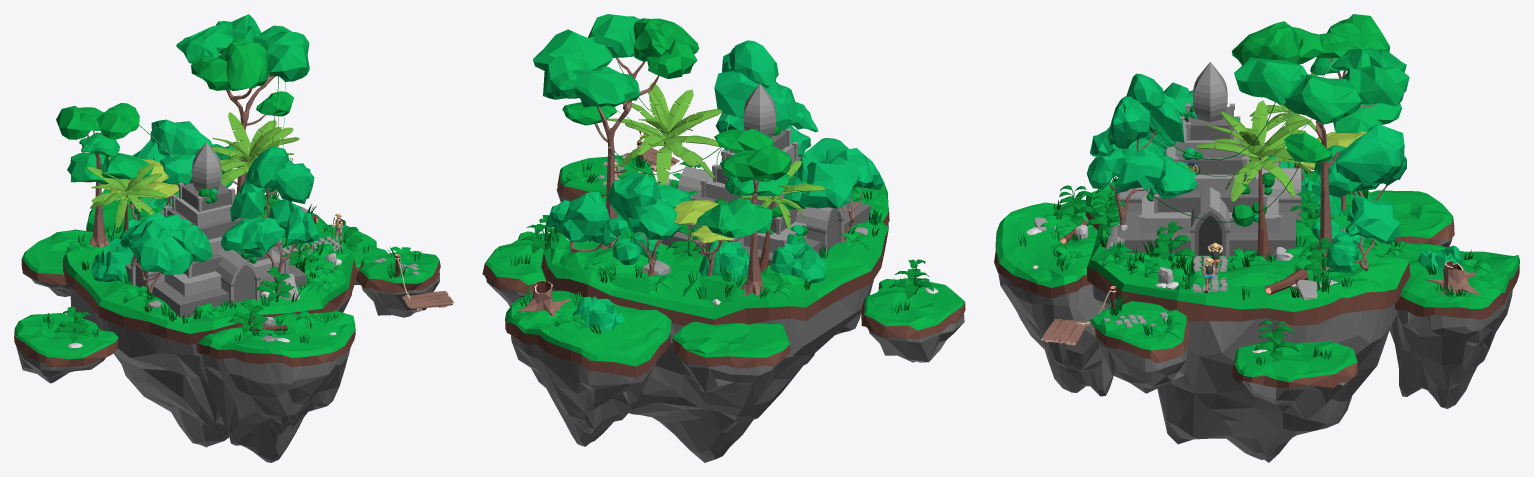
The model's file is land_1.fbx.
3 renders of one model, left to right at view 1: azimuth 30°, elevation 25°; view 2: azimuth 150°, elevation 25°; view 3: azimuth 270°, elevation 25°, orthographic. The views are drawn at different scales.
Visible parts, largest first — view 1: polySurface3123, polySurface3126, land_01.027, land_01.149, land_01.125, land_01.159, pCube233.001, land_01.126, pCube230, land_01.127, land_01.184, pCube236 (+11 smaller); view 2: polySurface3123, polySurface3131, land_01.149, land_01.027, land_01.159, pCube236, pCube233.001, land_01.125, land_01.126, land_01.184, land_01.127, land_01.155 (+13 smaller); view 3: polySurface3123, land_01.027, polySurface3131, land_01.149, polySurface3126, land_01.125, pCube233, pCube230, land_01.184, land_01.127, land_01.159, land_01.155 (+16 smaller).
Boxes of the visible parts, x1,y1,x2,y2 form: polySurface3123: (63,194,357,447); polySurface3126: (196,311,355,462); land_01.027: (125,142,306,317); land_01.149: (176,14,309,194); land_01.125: (221,146,318,296); land_01.159: (56,103,153,247); pCube233.001: (14,313,118,383); land_01.126: (120,213,212,294); pCube230: (356,251,440,317); land_01.127: (132,119,212,206); land_01.184: (198,112,299,217); pCube236: (21,229,92,296); polySurface3123: (541,182,888,462); polySurface3131: (505,290,671,446); land_01.149: (533,14,699,249); land_01.027: (661,83,870,265); land_01.159: (695,128,791,295); pCube236: (672,321,790,394); pCube233.001: (861,278,965,362); land_01.125: (714,40,818,156); land_01.126: (783,138,884,241); land_01.184: (606,82,721,184); land_01.127: (607,171,692,276); land_01.155: (546,192,659,265); polySurface3123: (1085,171,1409,462); land_01.027: (1119,62,1301,256); polySurface3131: (1389,241,1519,408); land_01.149: (1232,21,1409,270); polySurface3126: (994,202,1113,396); land_01.125: (1086,73,1197,225); pCube233: (1231,341,1358,419); pCube230: (1089,301,1189,393); land_01.184: (1196,100,1313,260); land_01.127: (1314,124,1406,200); land_01.159: (1289,14,1401,133); land_01.155: (1311,194,1400,273).
Bounding box in the file's own units: 23.78 × 23.2 × 24.02.
